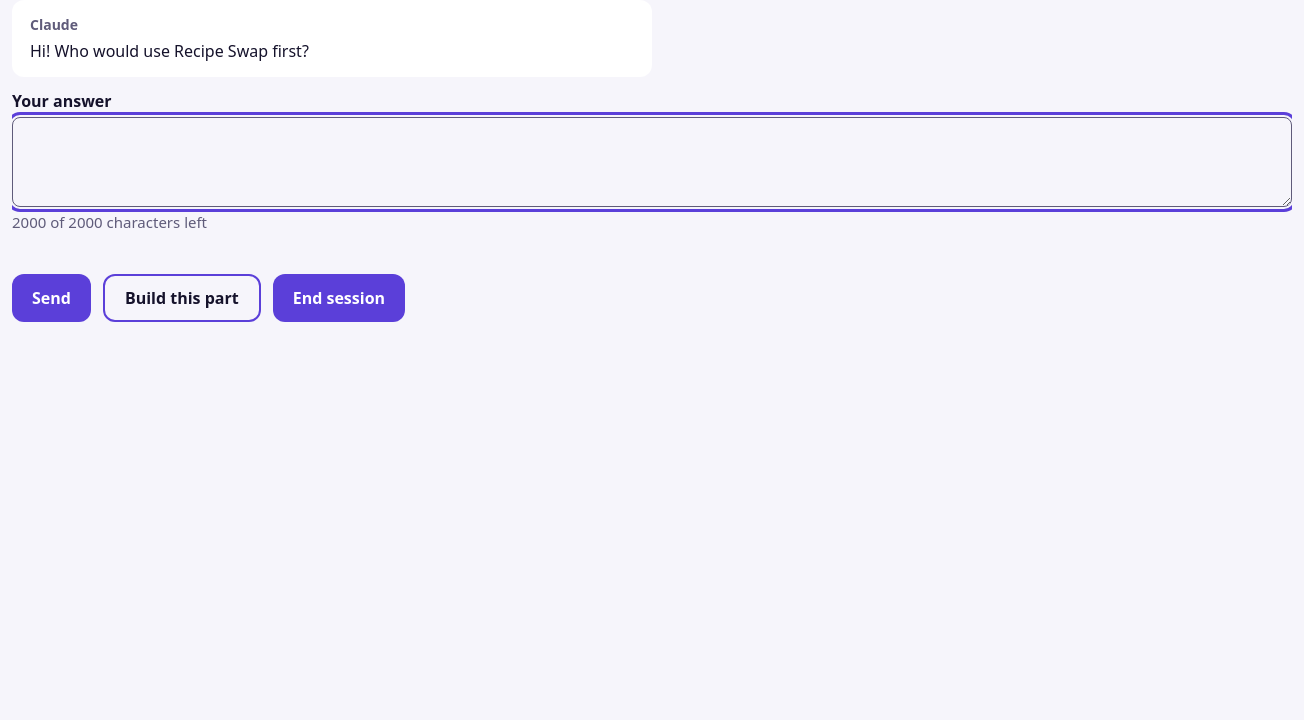
Scenario: sending a message › posts it, shows the reply, empties the box, and keeps focus where it was
Type "  My cousins.  " into the text box labelled "Your answer" at (652, 162), box [12,117,1292,207]
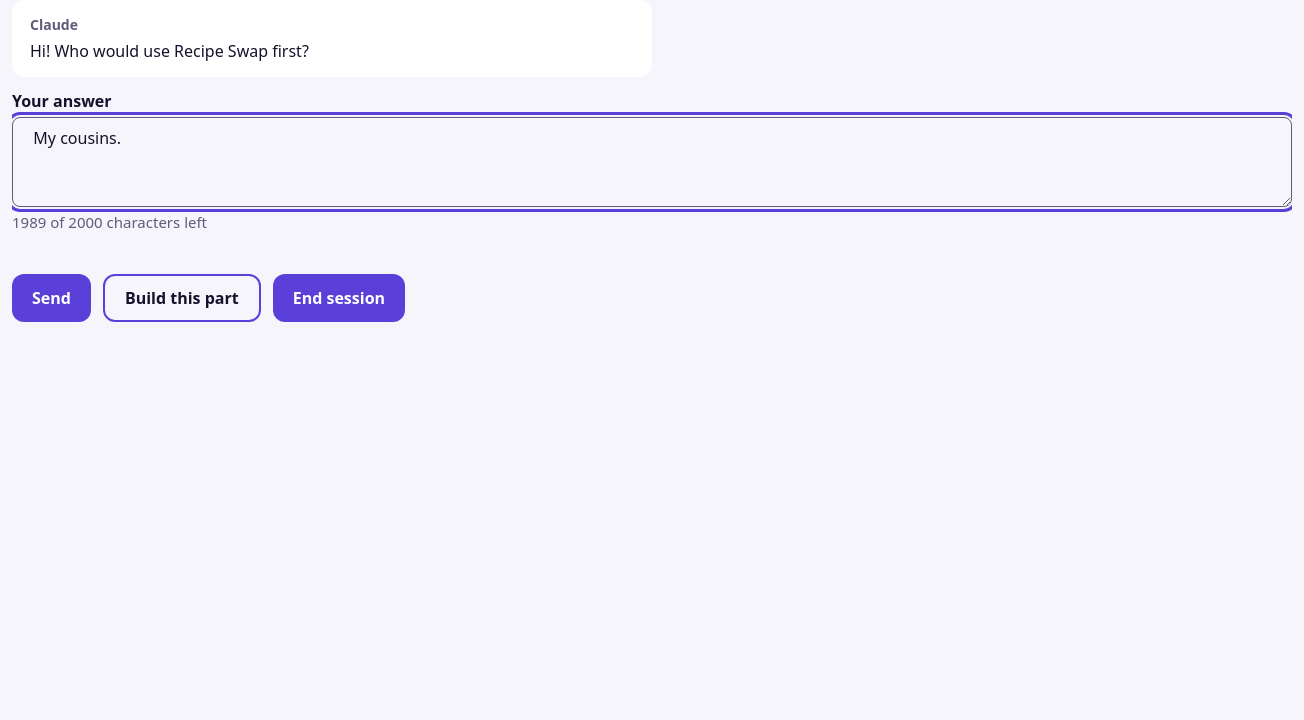
Submit the form named "Message to Claude", box [12,89,1292,266]
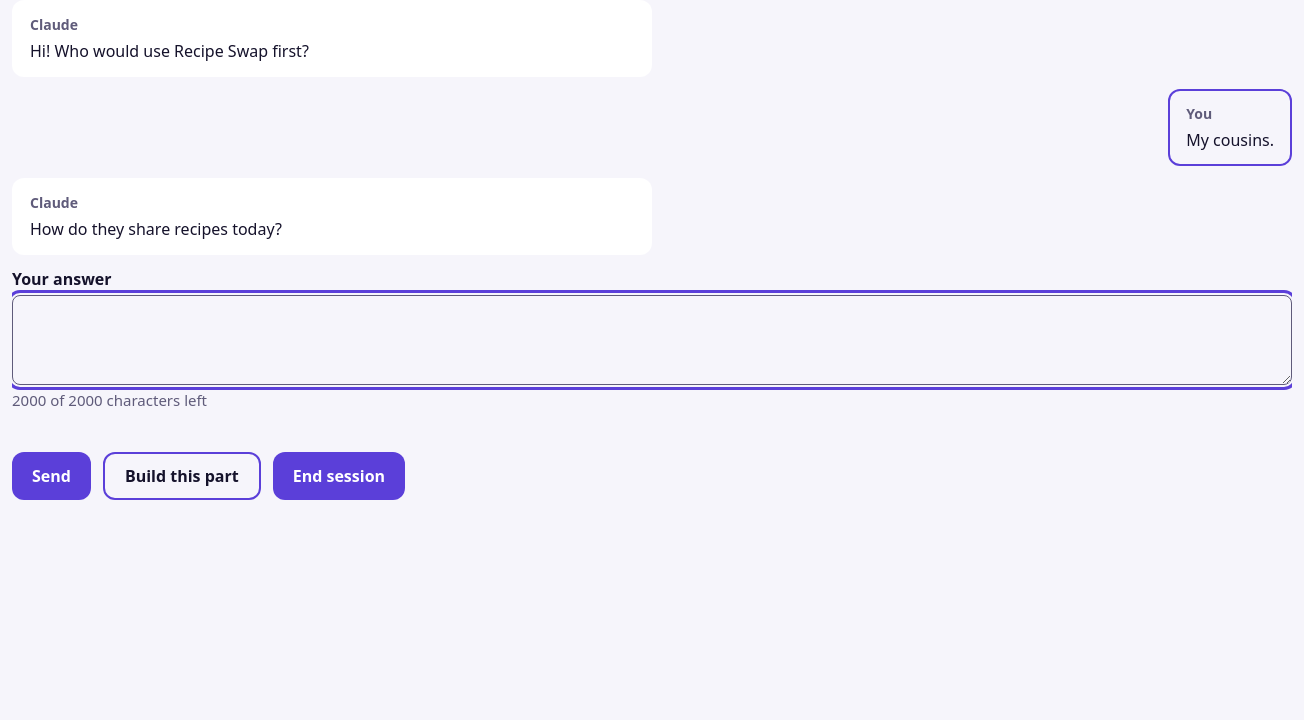
Result: the text "How do they share recipes today?" is shown at [30,218,282,240]
Result: the text box labelled "Your answer" is empty at [12,295,1292,385]
